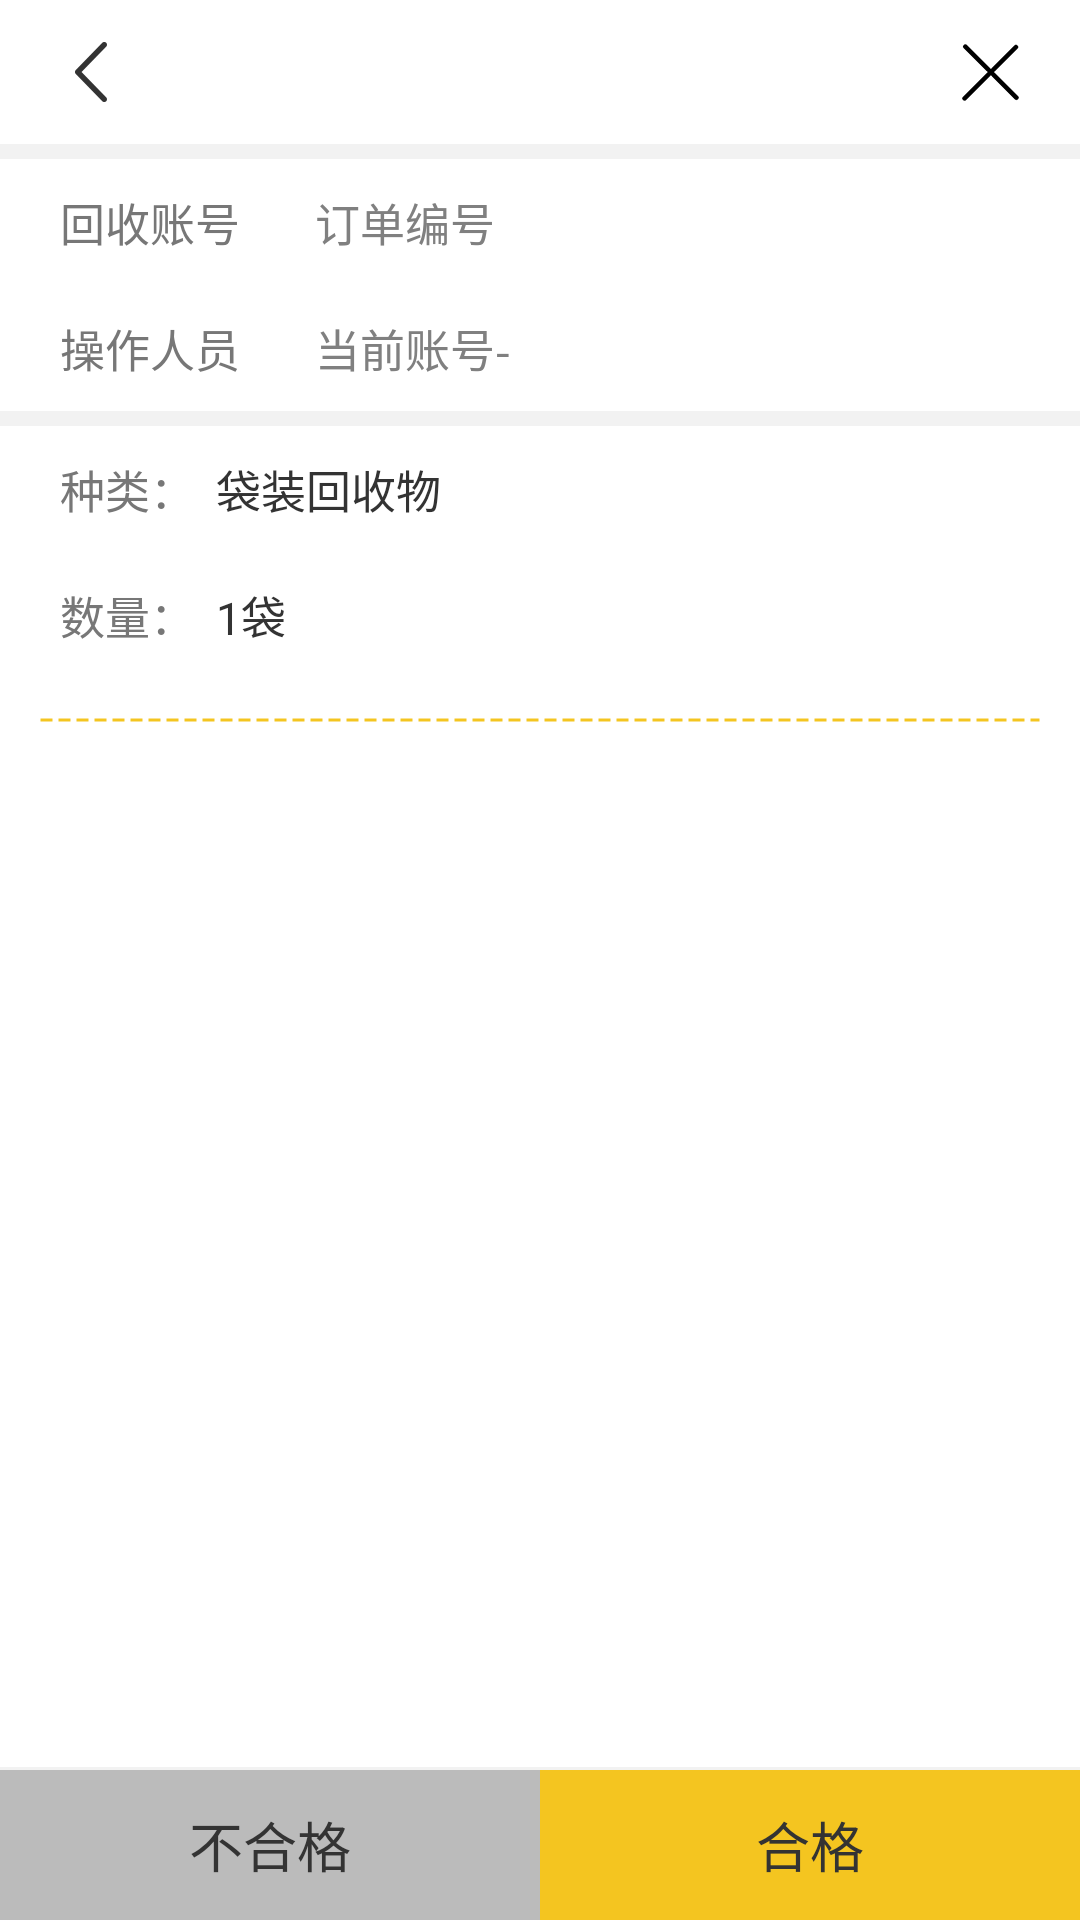

Icons on this 1080px x 1920px Android screen, each with its box as (x1, y1, x2, y2):
上一步: (75, 42, 107, 102)
